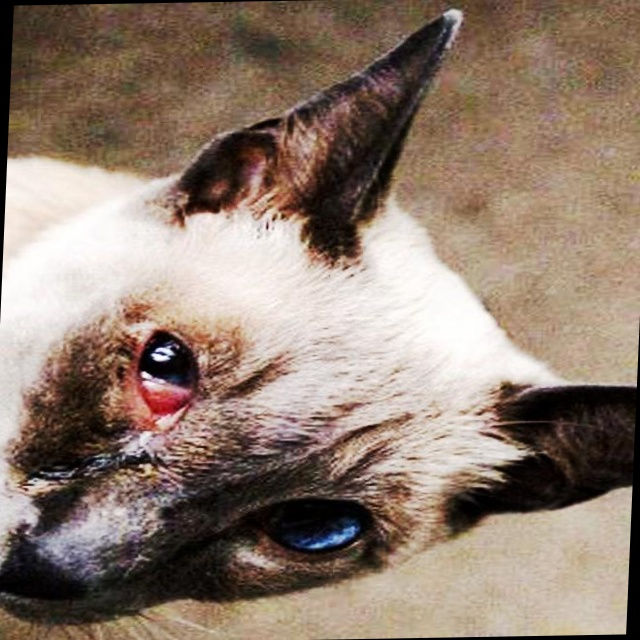eye_infection: (137, 322, 199, 434)
